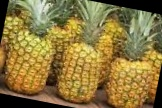Pineapple: (54, 5, 113, 104), (6, 1, 56, 96)
